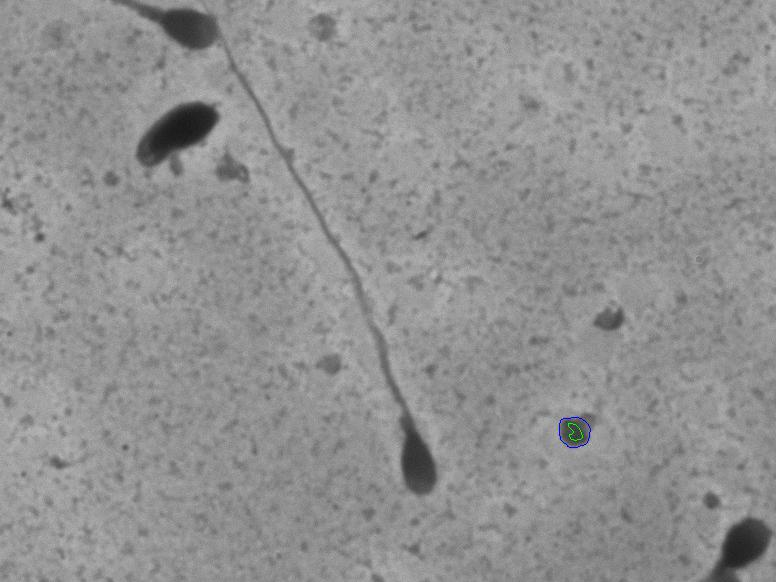Abnormal: (204, 16, 453, 518), (104, 94, 229, 186)
